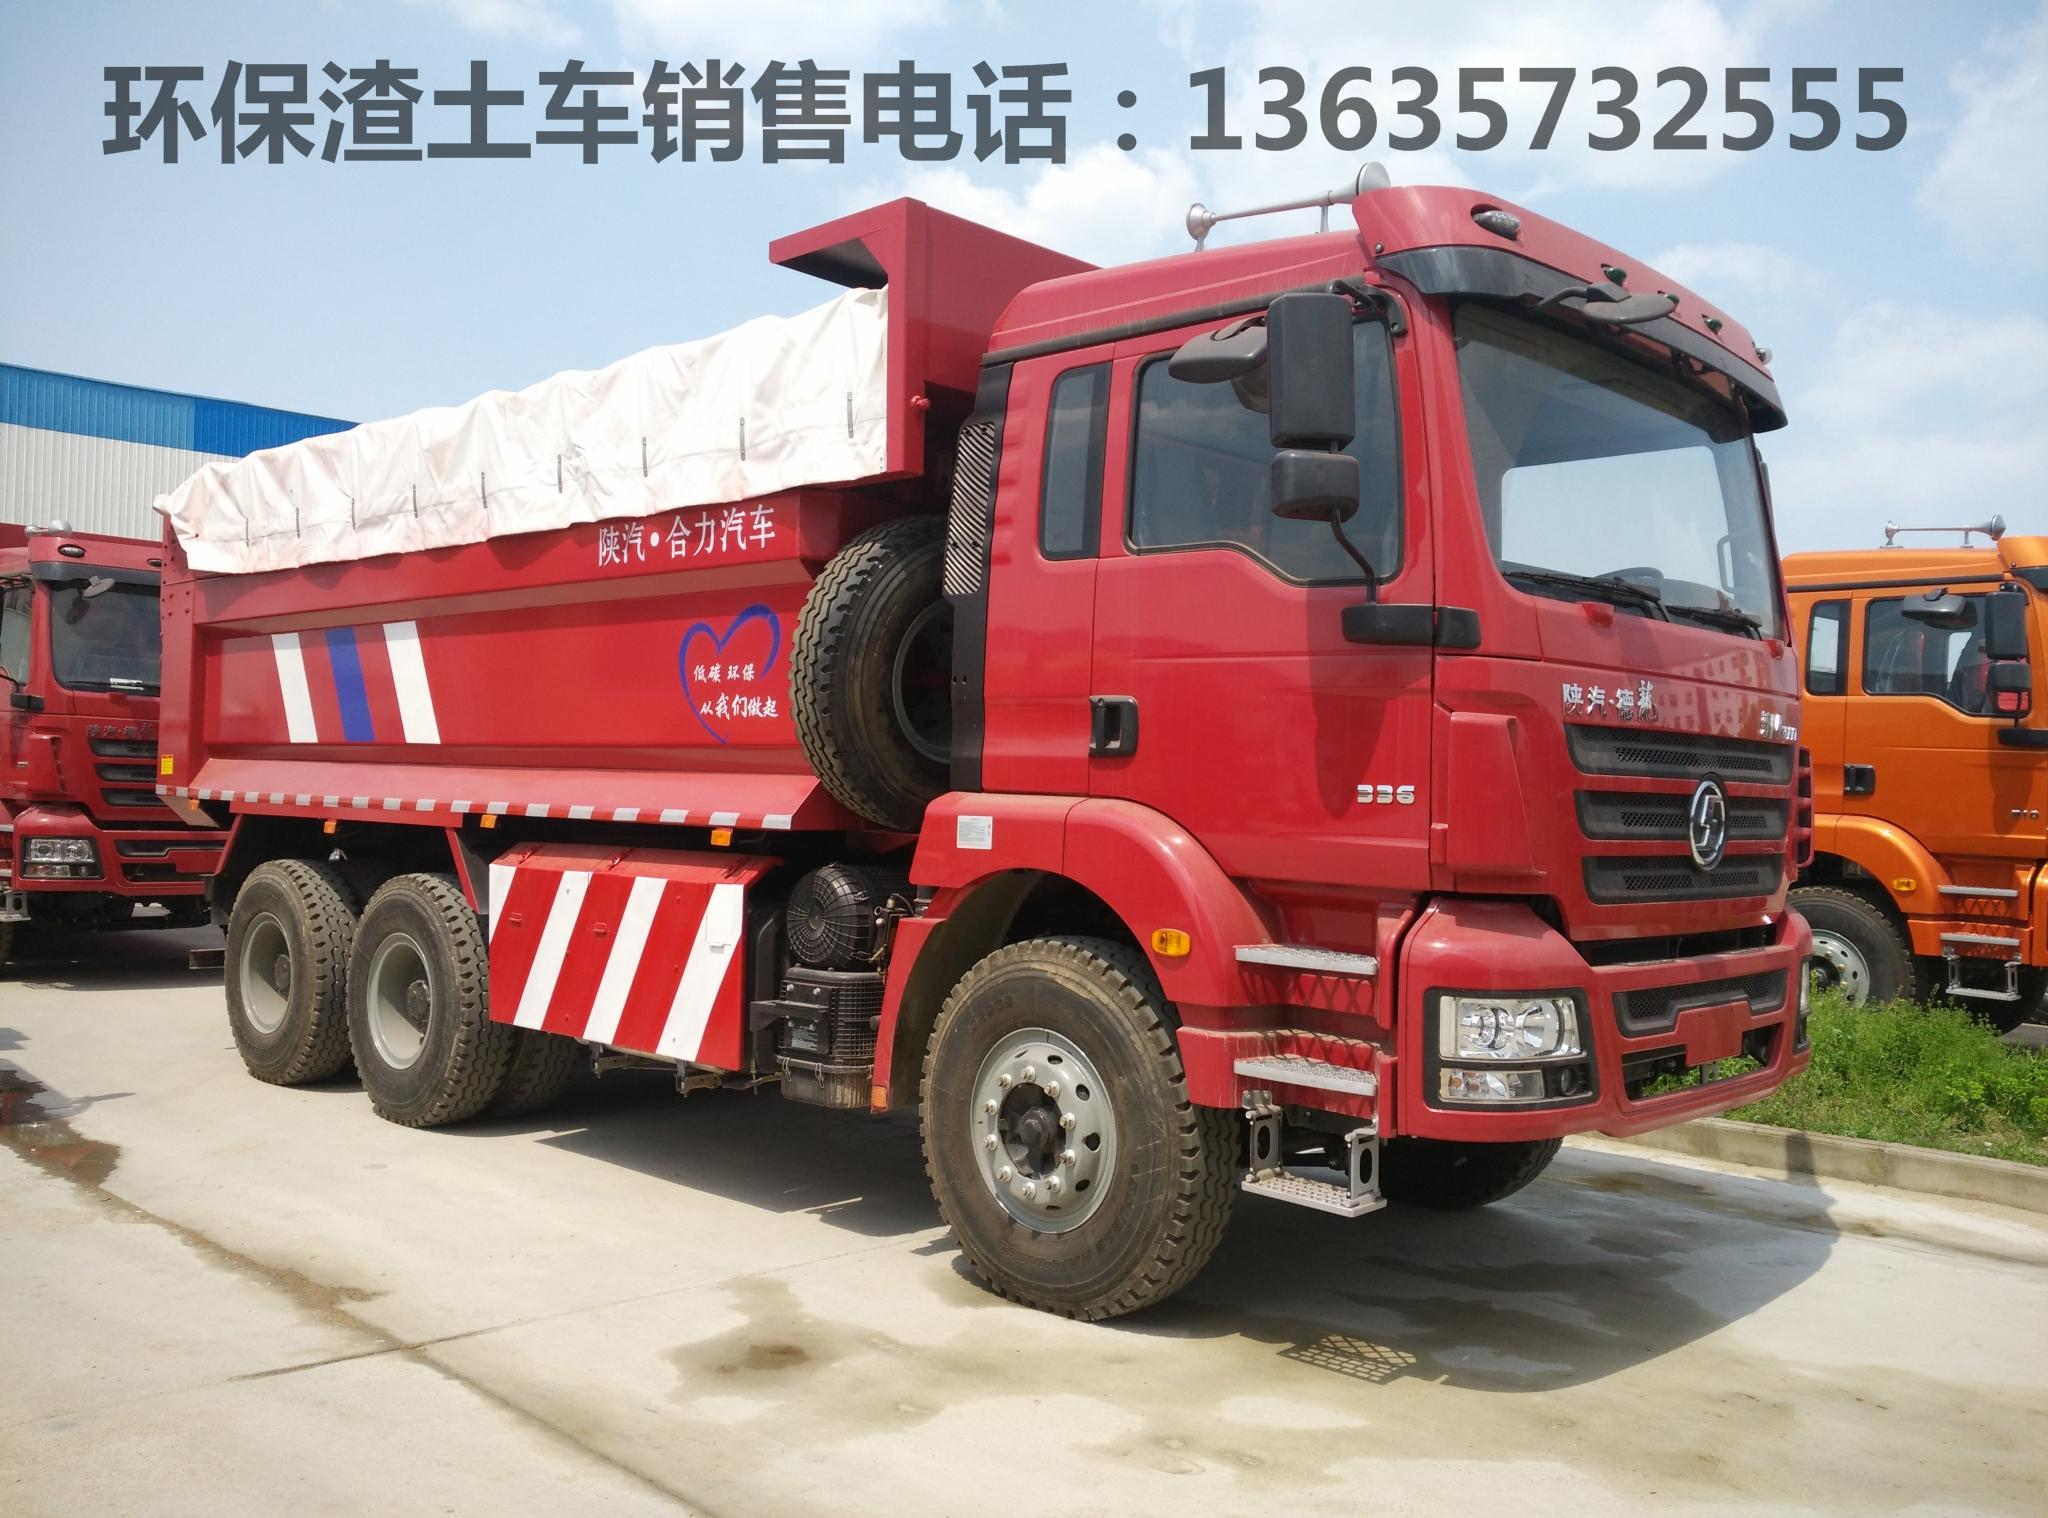truck: (145, 175, 1847, 1336)
